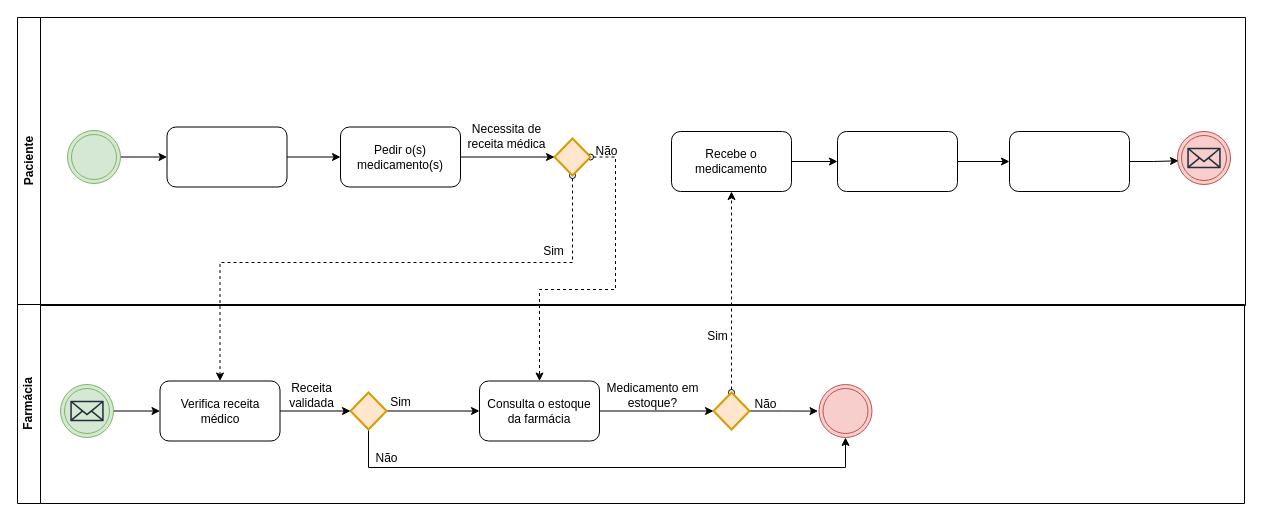
Some shapes in this 1263 by 521 pixel diagram are drawn without their labels. Each missing label, with the centre of its shape:
Dirige-se ao caixa: the point at 897,161
Ir a uma farmácia: the point at 226,156
Realiza o pagamento: the point at 1069,161
